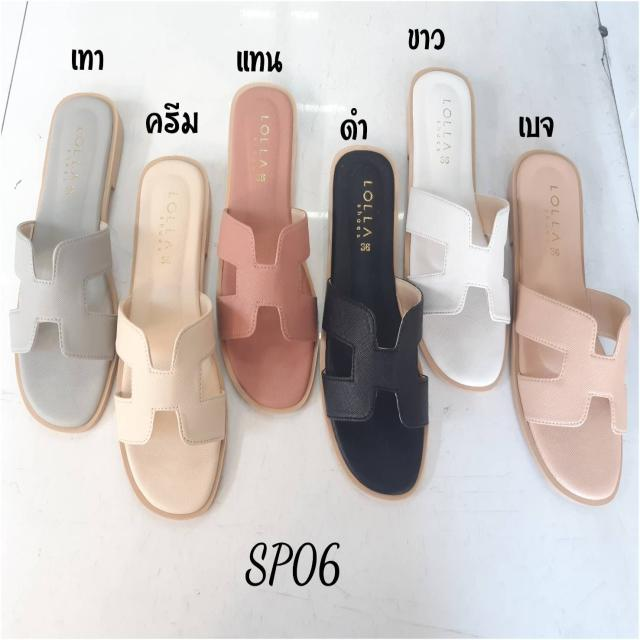bej: (509, 149, 626, 511)
black: (323, 149, 430, 494)
cream: (117, 155, 229, 515)
grey: (21, 93, 121, 428)
tan: (221, 86, 323, 416)
white: (404, 71, 508, 389)
